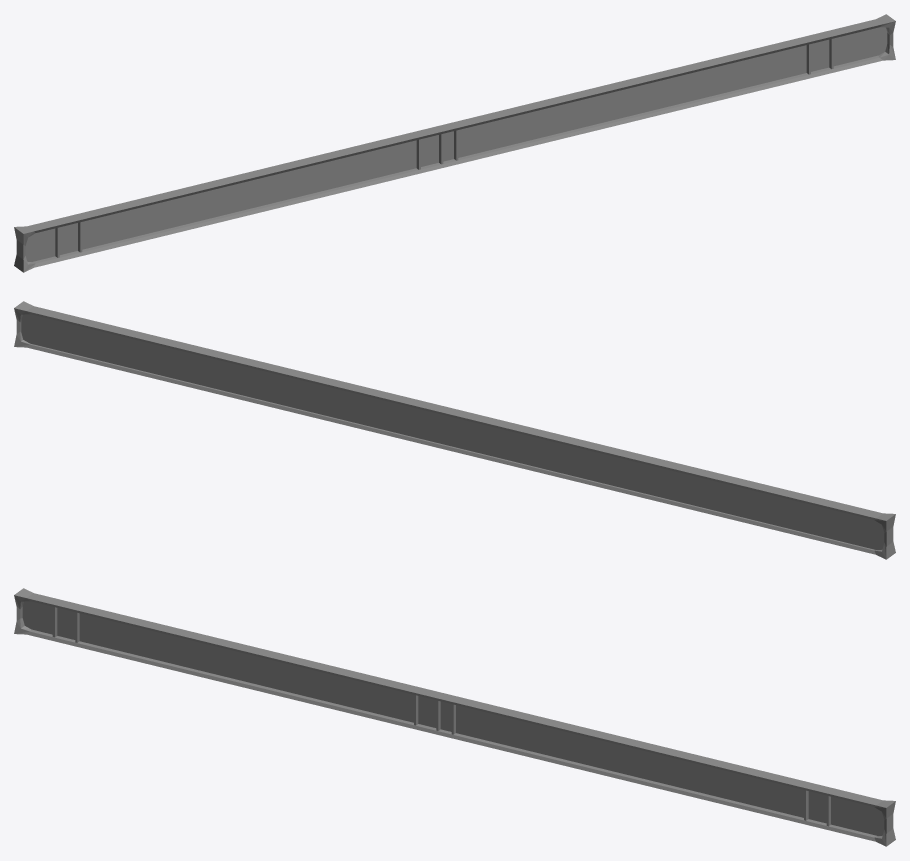
File: SM_rod_wall.fbx
3 renders of one model, top to bottom at view 1: azimuth 30°, elevation 25°; view 2: azimuth 150°, elevation 25°; view 3: azimuth 330°, elevation 25°, orthographic.
Visible parts, largest first — view 1: rod_wall; view 2: rod_wall; view 3: rod_wall.
Boxes of the visible parts, x1,y1,x2,y2 form: rod_wall: (14, 14, 895, 272); rod_wall: (14, 301, 895, 559); rod_wall: (14, 588, 895, 846).
Size of the model in its own units: 784 by 33.36 by 15.06.
